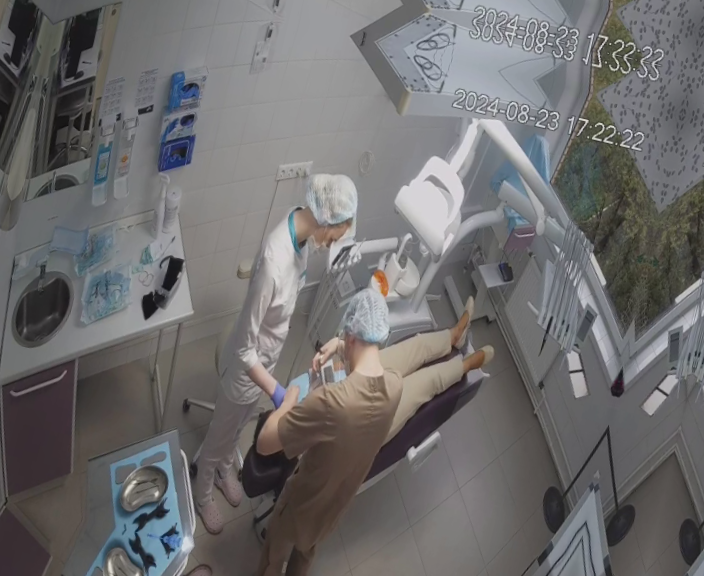Patient: (232, 253, 509, 547)
